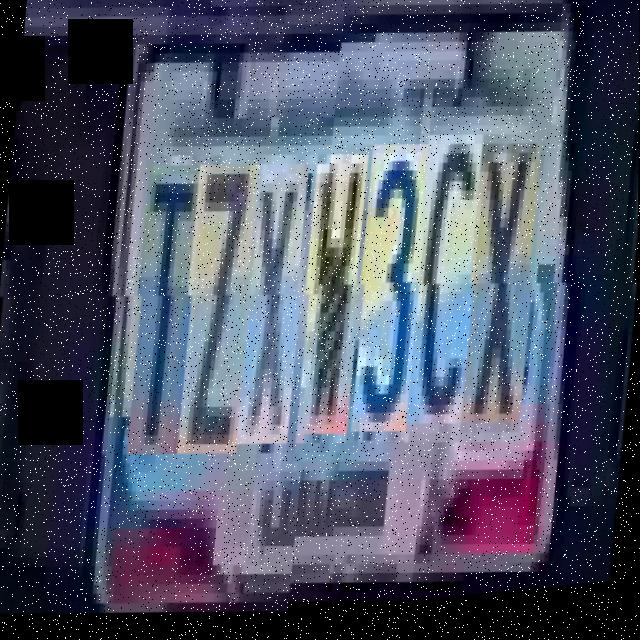3: (350, 157, 431, 455)
C: (405, 148, 487, 446)
T: (127, 164, 208, 462)
W: (296, 166, 371, 454)
X: (460, 158, 545, 447), (237, 165, 313, 454)
Z: (178, 164, 262, 462)
